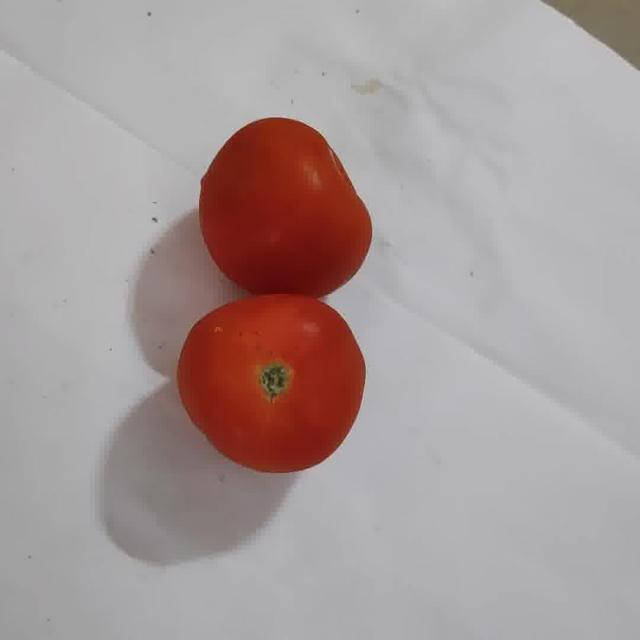Tomato: (175, 295, 366, 473), (200, 117, 372, 298)
